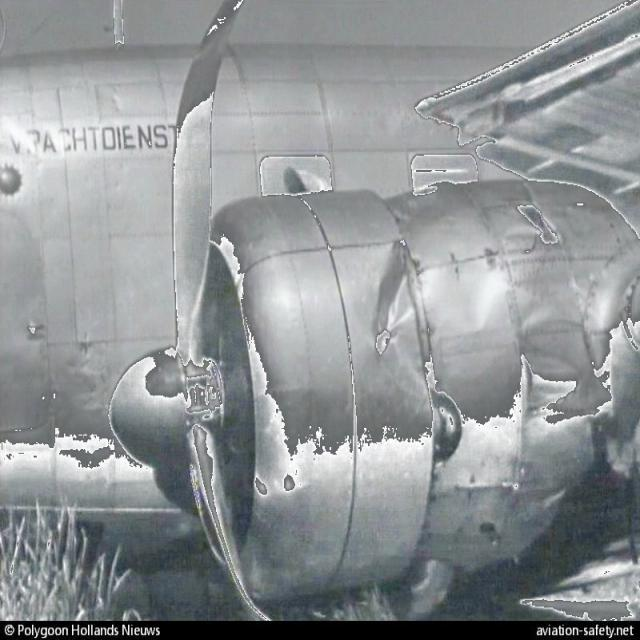dent: (362, 270, 429, 366)
